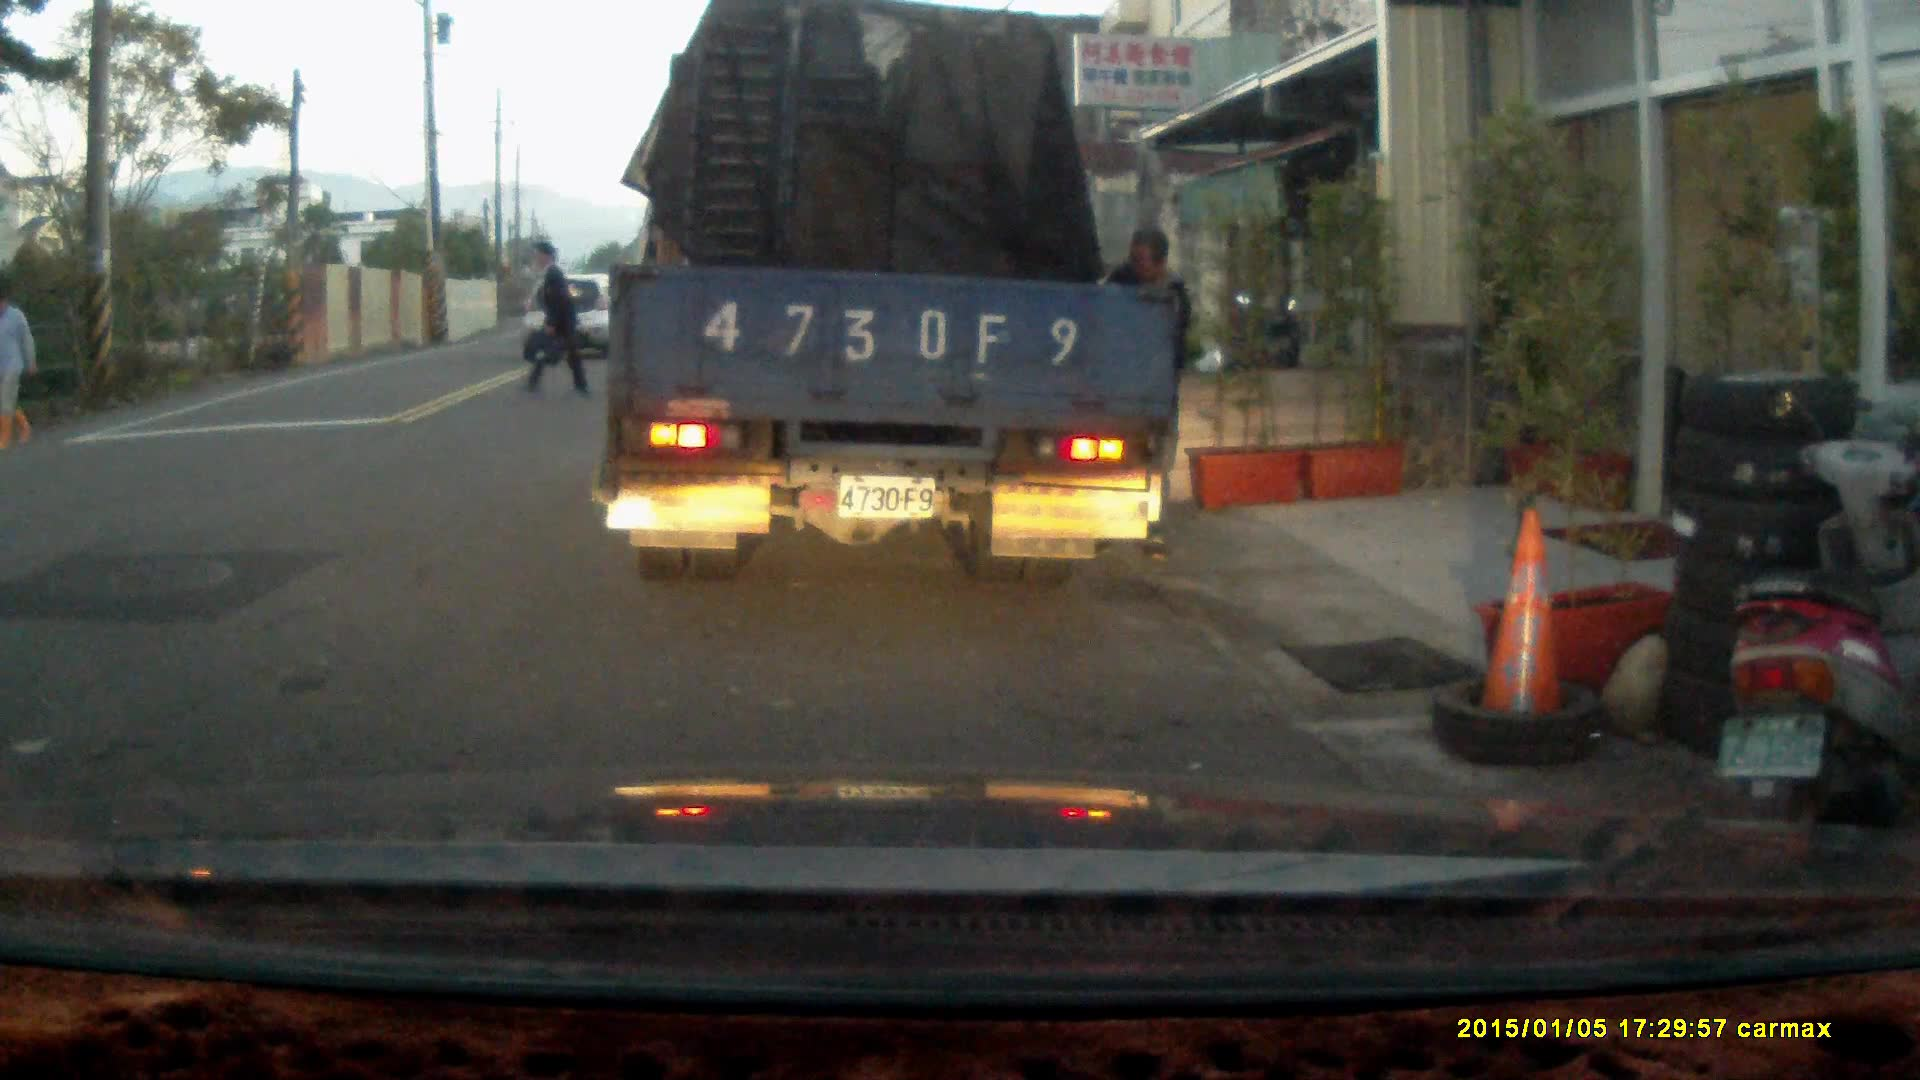pedestrian: (1081, 226, 1192, 562), (515, 240, 592, 409), (0, 289, 35, 450)
vehicle: (604, 23, 1187, 572), (520, 266, 620, 359)
